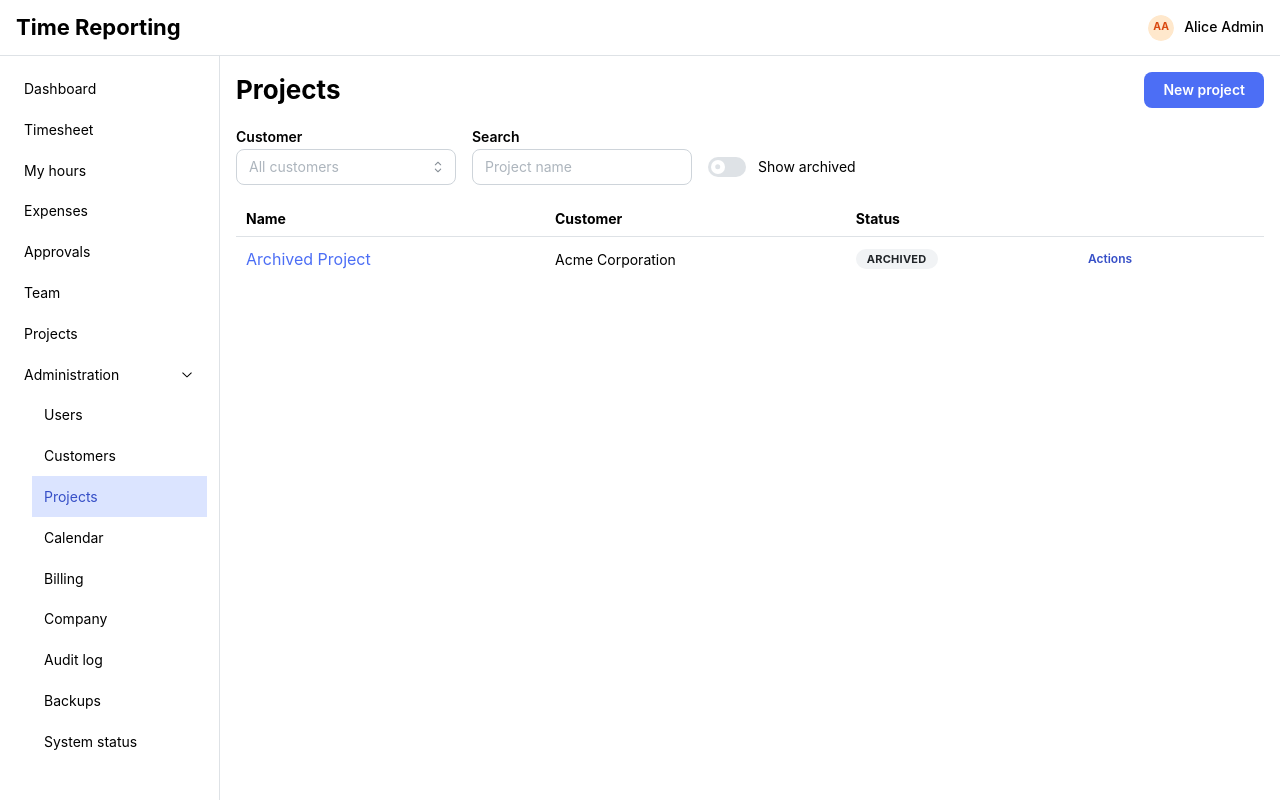
Test: AdminProjectsPage › shows a rule error when restoring under an archived customer
The width and height of the screenshot is (1280, 800).
Click the button "Actions": (1110, 260) [1073,244,1147,274]
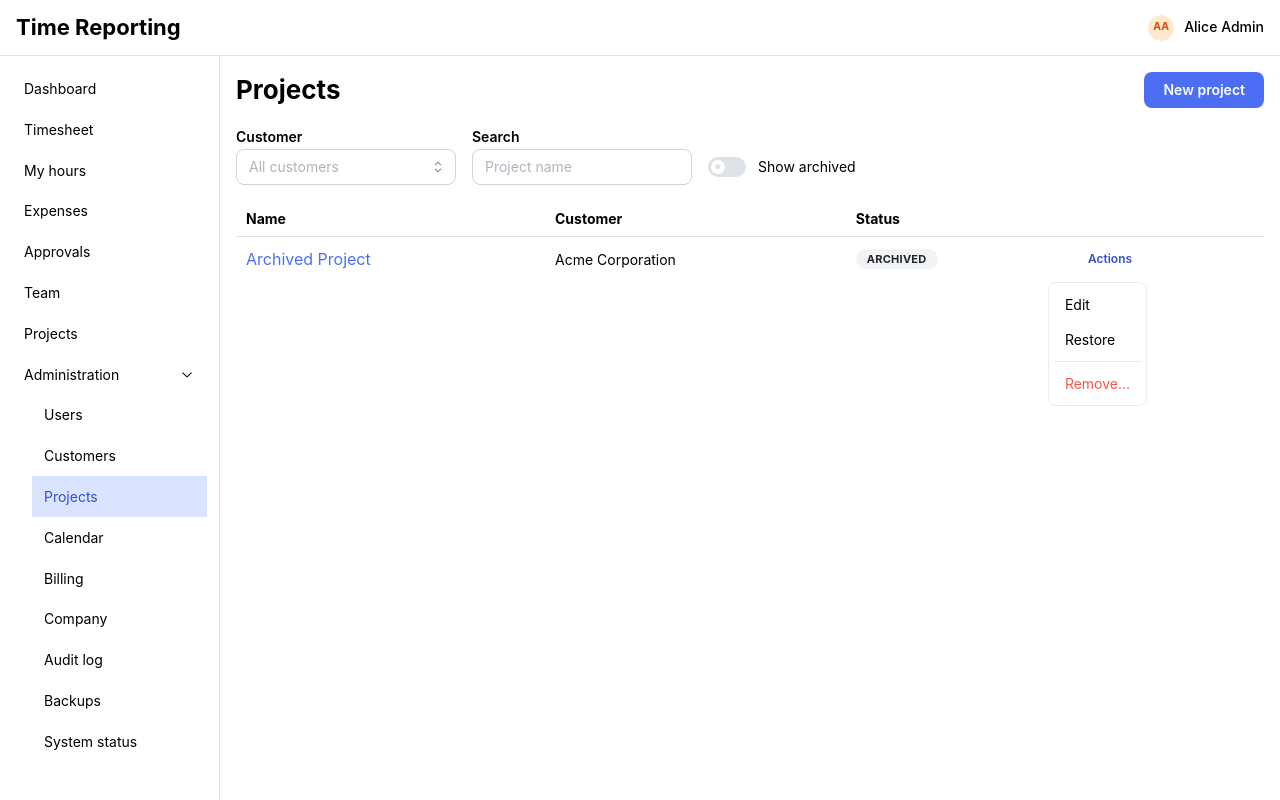
Click the menu item "Restore": (1098, 340) [1053,322,1142,358]
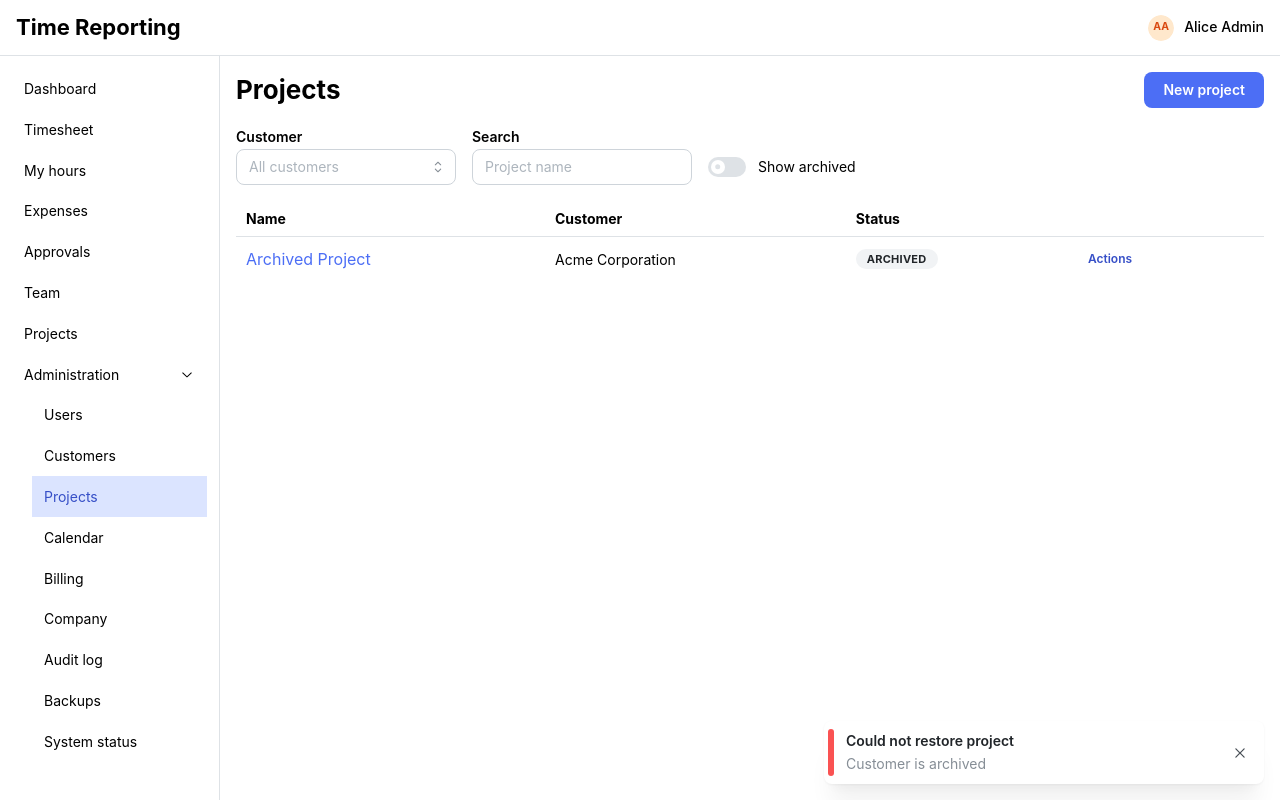
Expected: the text "Customer is archived" is shown, [846,755,986,772]
